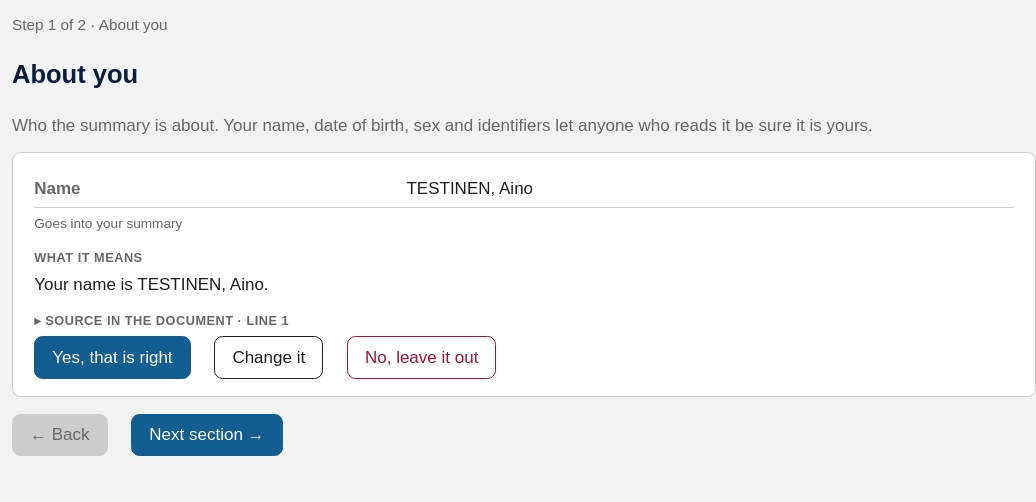
Test case: PatientReview › shows one section at a time with its explainer and three-part boxes
Expected: the heading "About you" is shown, [12,60,138,88]
Expected: the text "Who the summary is about" is shown, [12,116,873,135]
Click the button "▸ Source in the document · line 1" at point(162, 321), box [34,313,289,329]
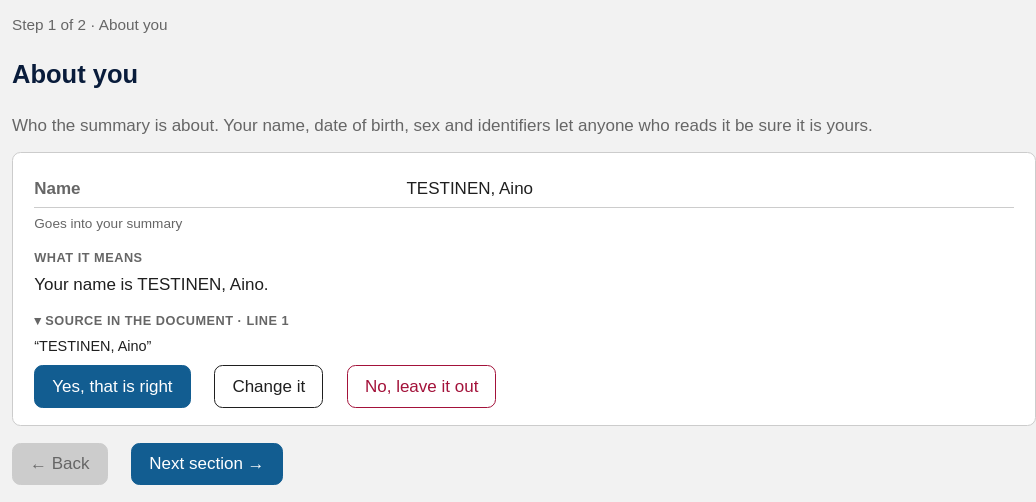
Now the text "TESTINEN, Aino" is shown, box [34,338,151,354]
